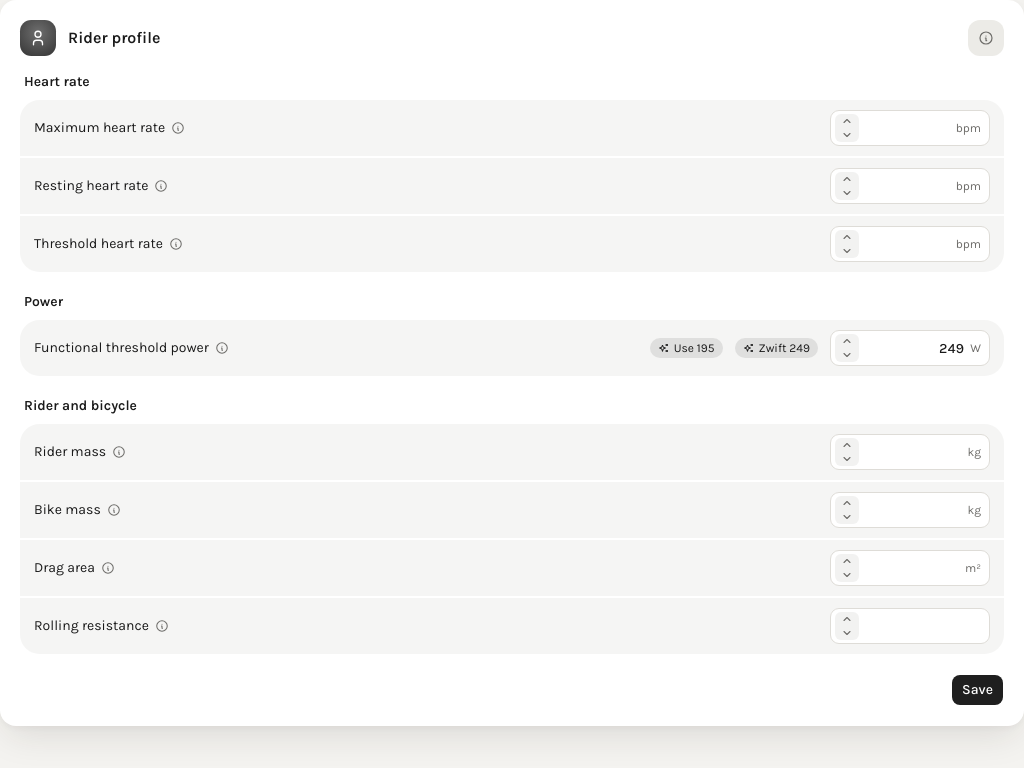
Test case: RiderProfile › offers the dated ride estimate and Zwift's FTP side by side
Check: the number field named "Functional threshold power (W)" holds "249", box [859,332,970,364]
Click the button with aria-label "Use the suggested functional threshold power, 195 W". click: (686, 348)
box: [650,338,723,358]
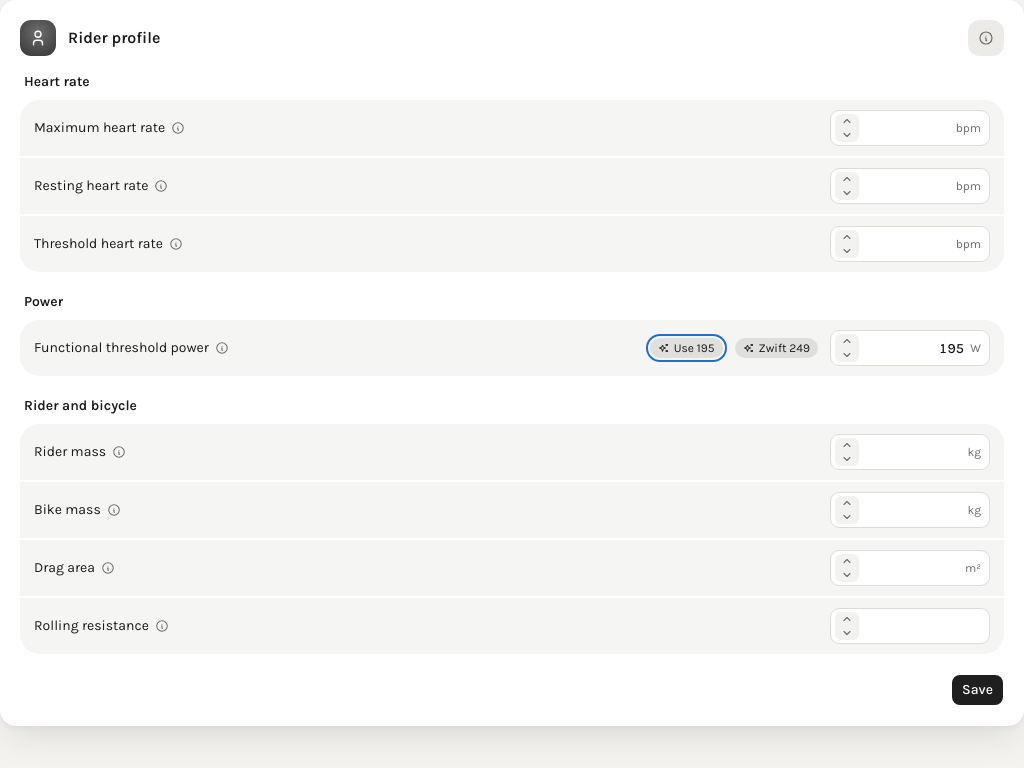
Check: the number field named "Functional threshold power (W)" holds "195", box [859,332,970,364]
Click the button with aria-label "Use Zwift's functional threshold power, 249 W". click: (776, 348)
box: [734,338,818,358]
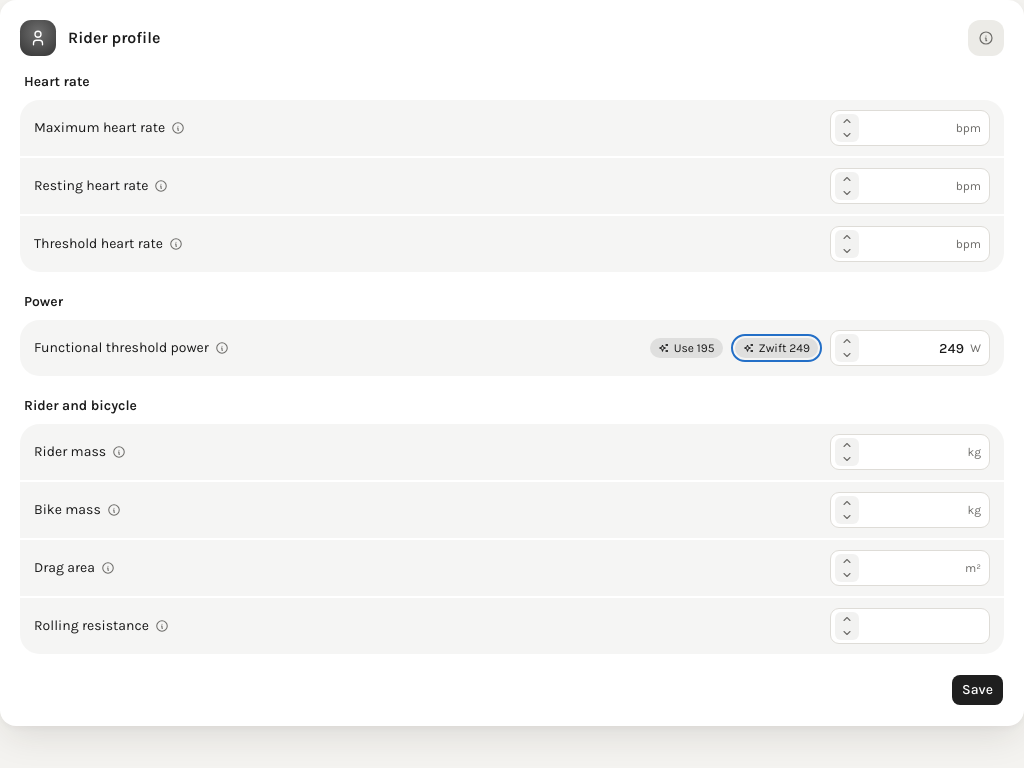
Check: the number field named "Functional threshold power (W)" holds "249", box [859,332,970,364]
